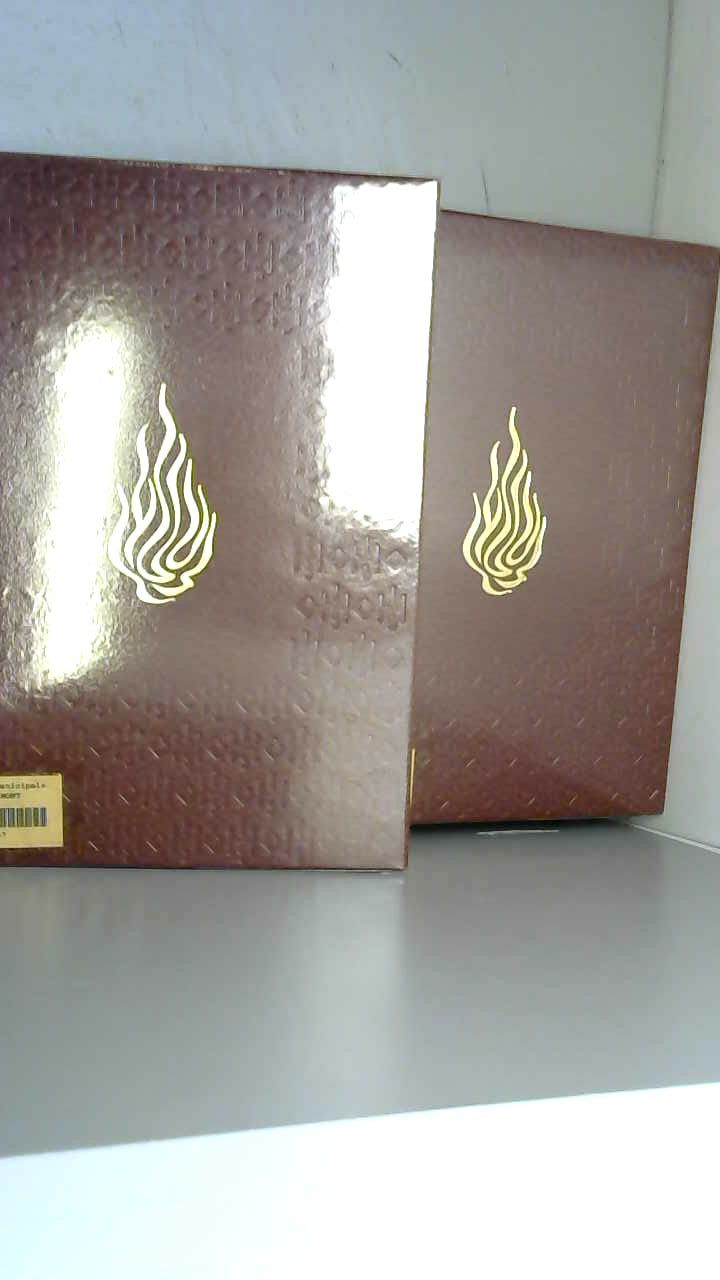book: (0, 120, 715, 908)
